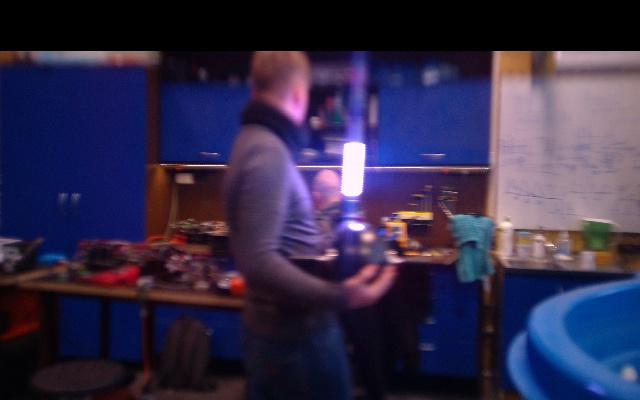white: (340, 141, 368, 197)
